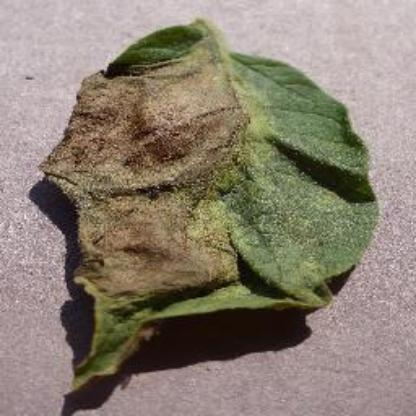Late-Blight: (34, 20, 376, 400)
